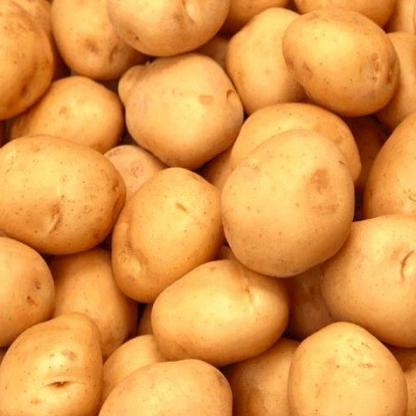potato: (207, 112, 354, 280), (137, 247, 313, 373), (100, 166, 230, 304), (254, 1, 405, 116), (0, 142, 152, 254), (314, 204, 416, 354), (127, 46, 244, 169), (0, 306, 125, 415), (288, 316, 416, 416)
